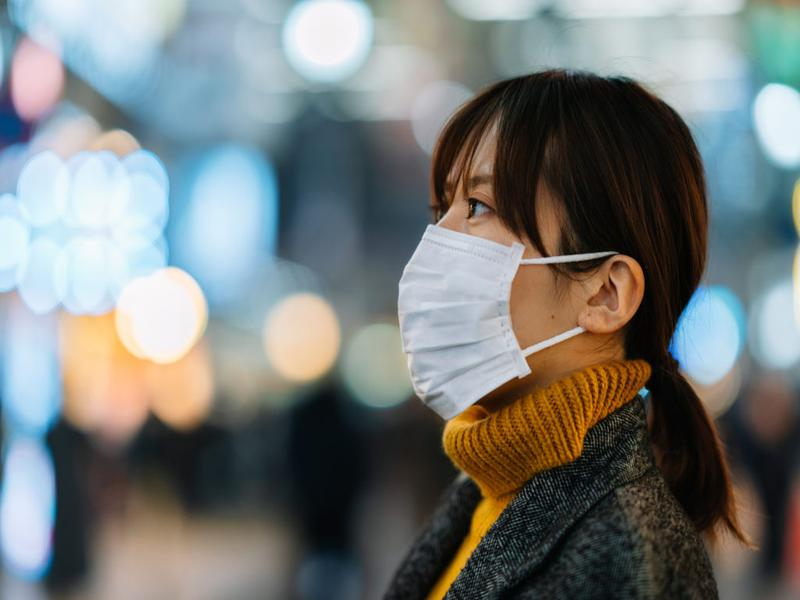mask: (394, 220, 531, 419)
